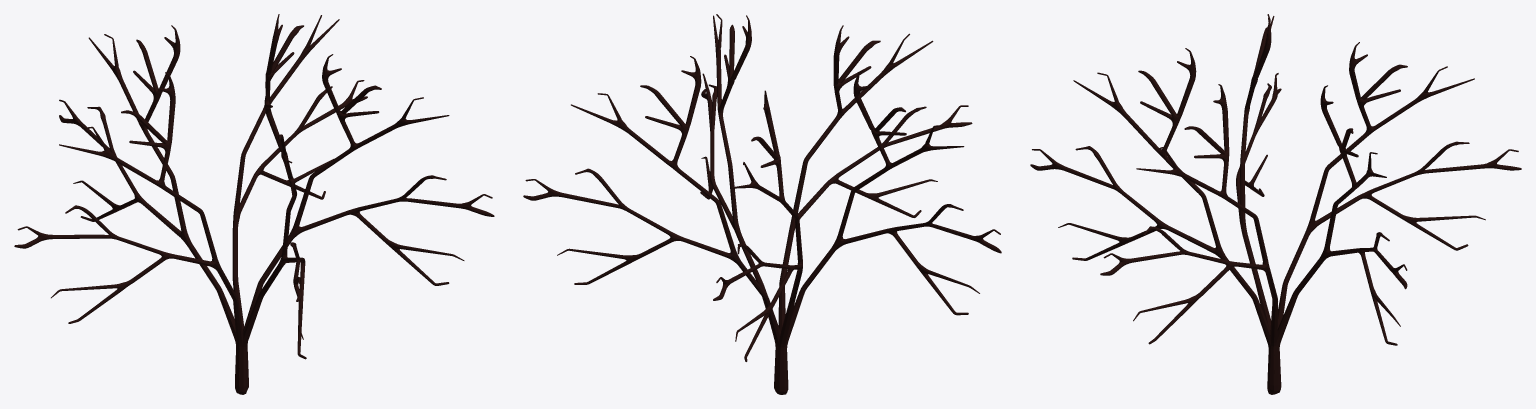
The model's file is WitherTree.obj.
The picture shows the model from 3 angles, left to right: view 1: azimuth 30°, elevation 25°; view 2: azimuth 150°, elevation 25°; view 3: azimuth 270°, elevation 25°; orthographic projection.
Visible parts, largest first — view 1: Cube; view 2: Cube; view 3: Cube.
Part boxes in pixels (x1,y1,x2,y2): Cube: (14, 14, 494, 394); Cube: (523, 14, 1001, 394); Cube: (1030, 14, 1521, 394).
Size of the model in its own units: 17.21 by 13.63 by 17.8.
